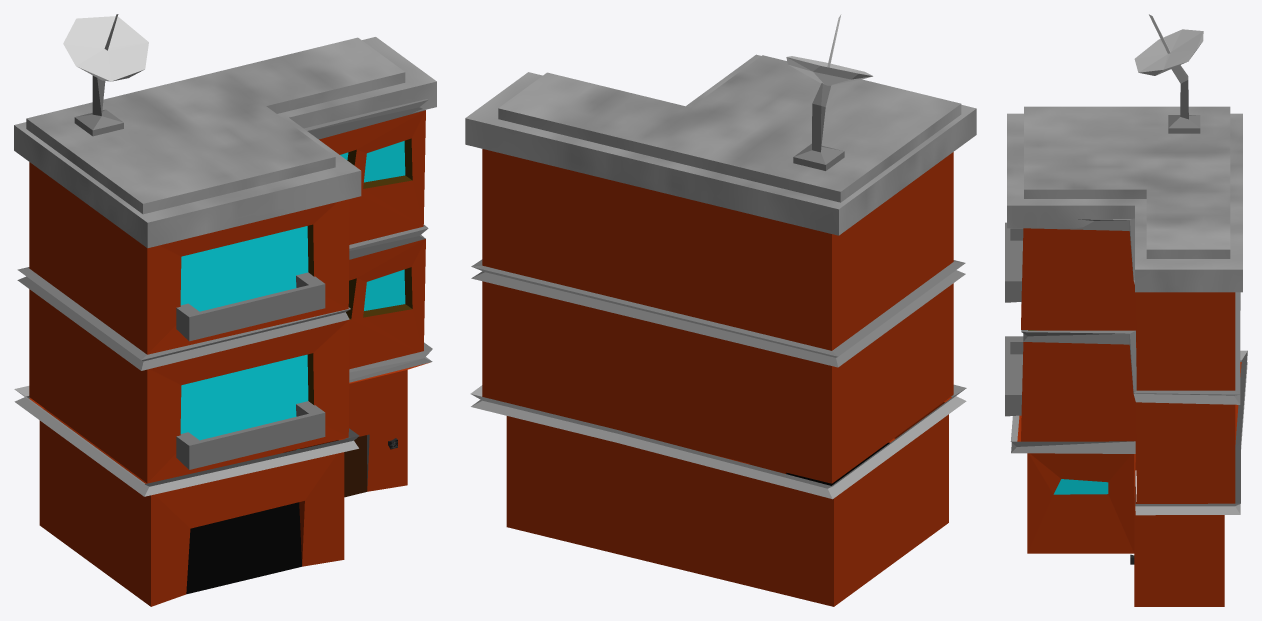
Rendered from PredioFormatoL-VermelhoLOD1.fbx.
3 renders of one model, left to right at view 1: azimuth 30°, elevation 25°; view 2: azimuth 150°, elevation 25°; view 3: azimuth 270°, elevation 25°, orthographic. The views are drawn at different scales.
Parts seen in each view (by area): view 1: Predio4LOD1; view 2: Predio4LOD1; view 3: Predio4LOD1.
Part boxes in pixels (x1=…): Predio4LOD1: x1=14, y1=14, x2=436, y2=606; Predio4LOD1: x1=465, y1=14, x2=976, y2=606; Predio4LOD1: x1=1005, y1=14, x2=1247, y2=606.
Size of the model in its own units: 1080 by 1524 by 711.
